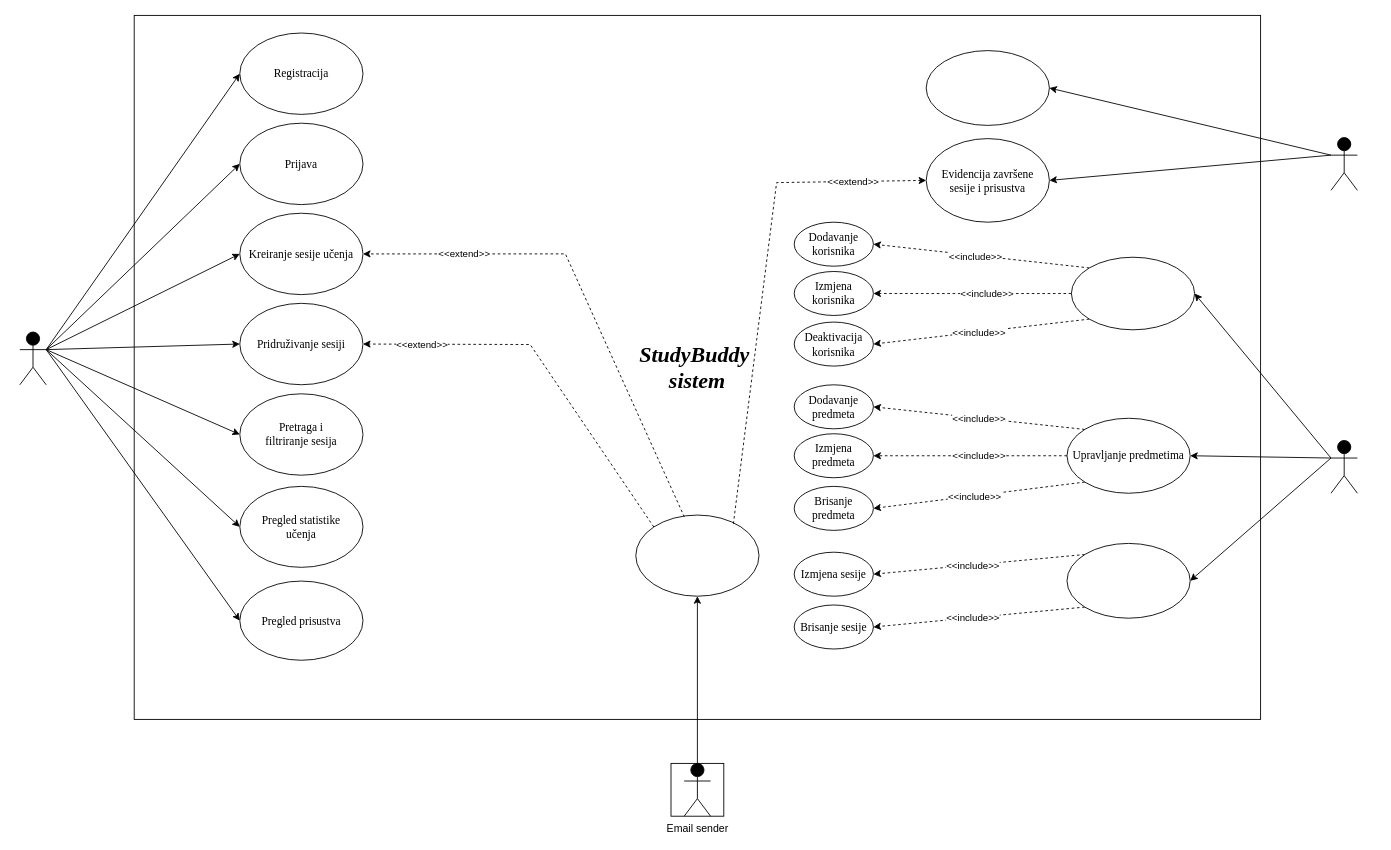
Image size: 1391x850. Some labels were removed from this diagram. Here are the shapes that lost their labels. From the top down, the centre of each, then its label:
the point at 987,87: Pregled sesija
the point at 1343,163: Moderator
the point at 1133,293: Upravljanje korisnicima
the point at 32,358: Student
the point at 1343,466: Administrator
the point at 697,555: Slanje obavještenja
the point at 1128,580: Upravljanje sesijama učenja
